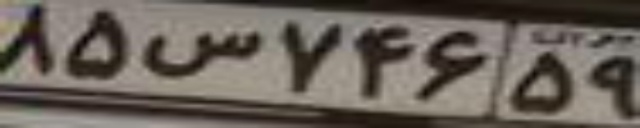4: (354, 24, 412, 101)
5: (507, 50, 574, 113), (65, 8, 124, 79)
6: (418, 31, 485, 100)
7: (280, 20, 342, 93)
8: (0, 3, 54, 75)
9: (587, 53, 637, 120)
sin: (139, 30, 262, 77)
